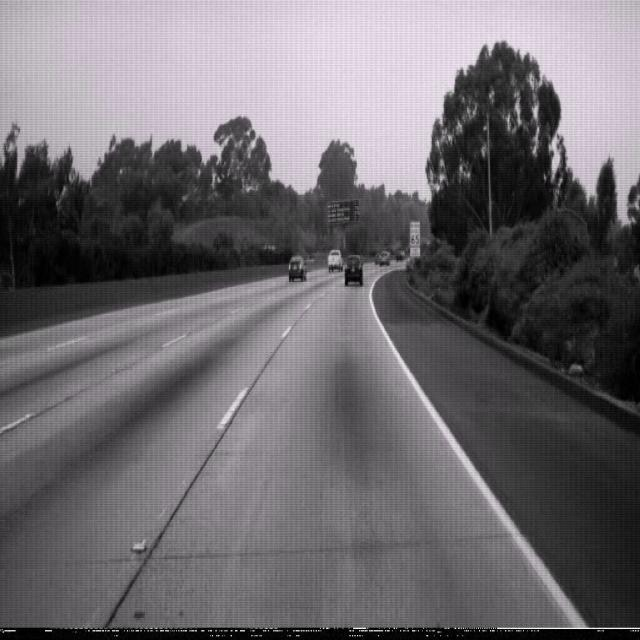speedLimit65: (410, 220, 420, 248)
